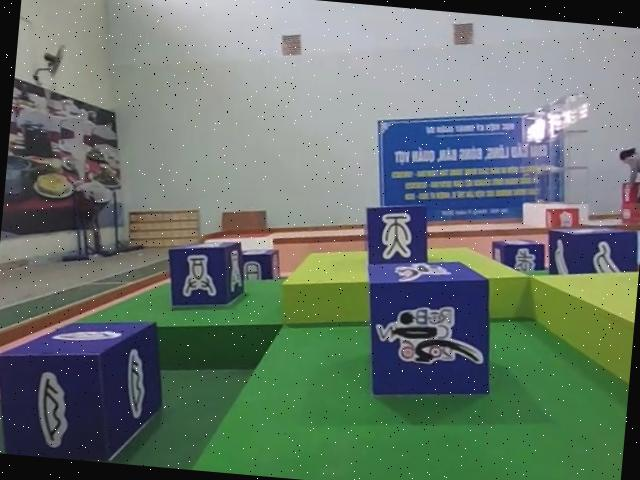R1 Blue: (356, 252, 499, 407)
R2 Fake Blue: (358, 202, 429, 272), (489, 237, 548, 275), (239, 244, 284, 281)
R2 Real Blue: (0, 305, 169, 466), (162, 233, 247, 312), (542, 224, 640, 284)
